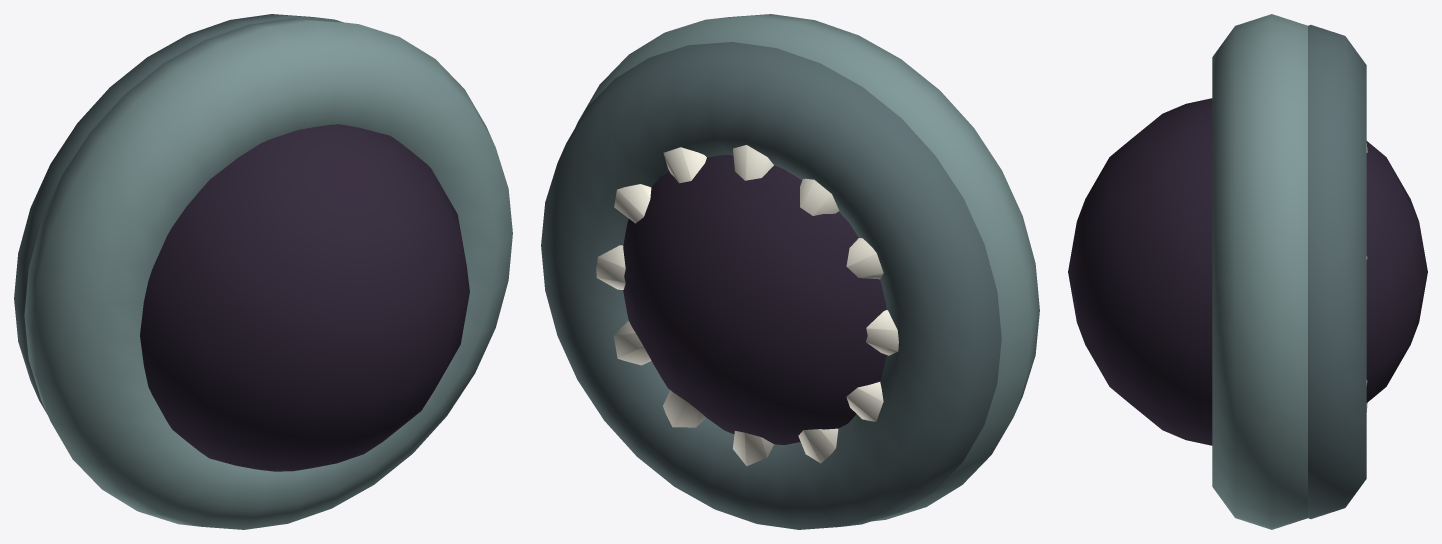
File: mouth.glb
3 renders of one model, left to right at view 1: azimuth 30°, elevation 25°; view 2: azimuth 150°, elevation 25°; view 3: azimuth 270°, elevation 25°, orthographic. The views are drawn at different scales.
Parts seen in each view (by area): view 1: skin, mouth, lip; view 2: lip, mouth, skin, tooth; view 3: mouth, skin, lip.
Part boxes in pixels (<box>): skin: <box>24,18,512,529</box>; mouth: <box>140,124,469,471</box>; lip: <box>14,14,342,414</box>; lip: <box>541,42,1001,529</box>; mouth: <box>623,155,886,444</box>; skin: <box>576,14,1039,521</box>; tooth: <box>596,145,898,466</box>; mouth: <box>1068,98,1427,445</box>; skin: <box>1212,14,1307,529</box>; lip: <box>1308,25,1366,518</box>.
Bounding box in the file's own units: 1.32 × 1.32 × 0.92.
